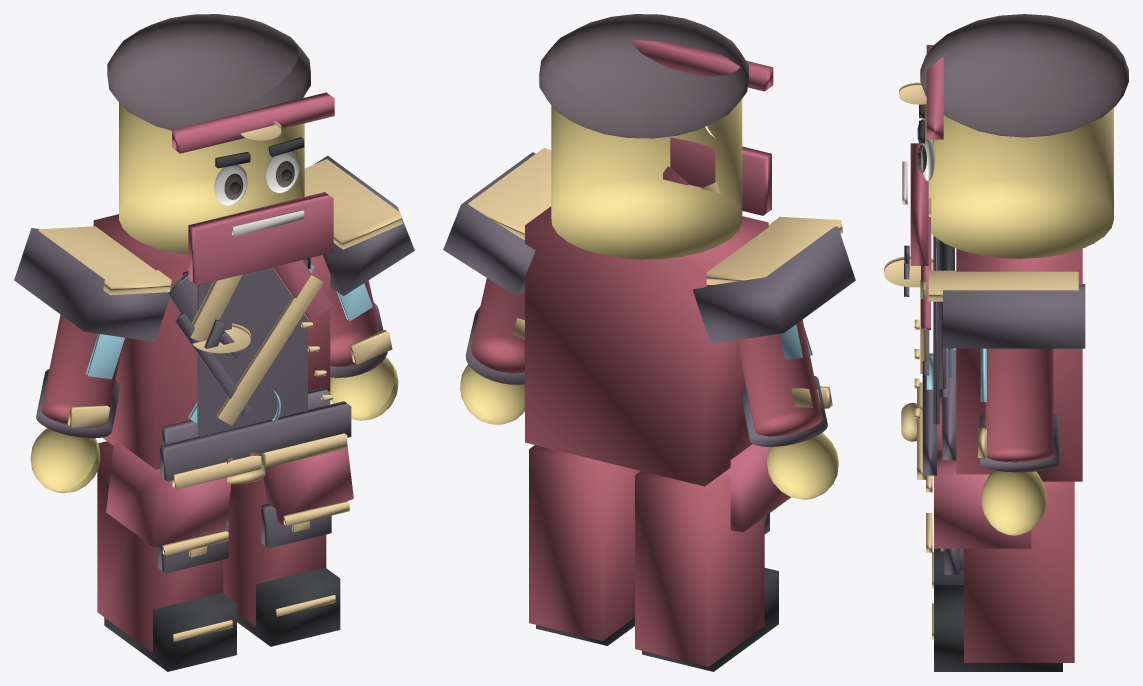
File: nya.glb
3 renders of one model, left to right at view 1: azimuth 30°, elevation 25°; view 2: azimuth 150°, elevation 25°; view 3: azimuth 270°, elevation 25°, orthographic. The views are drawn at different scales.
Parts seen in each view (by area): view 1: hairCap, headCore, torsoBody, remasterKimonoUnderlayer, leftLegBody, remasterNyaFaceGuard, remasterShoulderPlate-1, remasterSamuraiSkirt-1, rightLegBody, remasterWaistWrap, leftBoot, rightBoot (+30 smaller); view 2: torsoBody, headCore, leftLegBody, rightLegBody, hairCap, remasterShoulderPlate-1, leftArmBody, remasterShoulderPlate1, remasterShoulderEdge-1, remasterShoulderEdge1, rightArmBody, remasterNyaFaceGuard (+9 smaller); view 3: headCore, hairCap, rightLegBody, torsoBody, remasterShoulderPlate1, rightArmBody, remasterSamuraiSkirt1, rightHandAuthored, rightBoot, remasterShoulderEdge1, remasterNyaFaceGuard, remasterTempleBand (+15 smaller).
Part boxes in pixels (<box>): hairCap: <box>107,14,310,130</box>; headCore: <box>119,96,304,254</box>; torsoBody: <box>93,214,330,469</box>; remasterKimonoUnderlayer: <box>197,259,307,436</box>; leftLegBody: <box>97,441,223,651</box>; remasterNyaFaceGuard: <box>188,192,333,285</box>; remasterShoulderPlate-1: <box>14,228,171,341</box>; remasterSamuraiSkirt-1: <box>106,442,231,547</box>; rightLegBody: <box>223,478,326,626</box>; remasterWaistWrap: <box>160,401,351,481</box>; leftBoot: <box>104,592,236,671</box>; rightBoot: <box>237,567,340,646</box>; torsoBody: <box>525,206,768,486</box>; headCore: <box>551,99,742,259</box>; leftLegBody: <box>635,471,764,666</box>; rightLegBody: <box>529,445,640,640</box>; hairCap: <box>539,14,748,138</box>; remasterShoulderPlate-1: <box>693,226,855,343</box>; leftArmBody: <box>736,320,822,436</box>; remasterShoulderPlate1: <box>443,152,535,296</box>; remasterShoulderEdge-1: <box>706,216,843,284</box>; remasterShoulderEdge1: <box>468,147,551,239</box>; rightArmBody: <box>471,278,524,373</box>; remasterNyaFaceGuard: <box>670,138,771,215</box>; headCore: <box>924,104,1113,258</box>; hairCap: <box>920,14,1128,137</box>; rightLegBody: <box>964,481,1074,662</box>; torsoBody: <box>956,248,1082,481</box>; remasterShoulderPlate1: <box>943,284,1085,348</box>; rightArmBody: <box>985,348,1053,462</box>; remasterSamuraiSkirt1: <box>934,450,1031,548</box>; rightHandAuthored: <box>981,462,1046,535</box>; rightBoot: <box>934,585,1062,671</box>; remasterShoulderEdge1: <box>928,270,1078,301</box>; remasterNyaFaceGuard: <box>910,143,928,265</box>; remasterTempleBand: <box>926,45,943,139</box>.
Size of the model in its own units: 1.61 by 2.5 by 0.9299.
